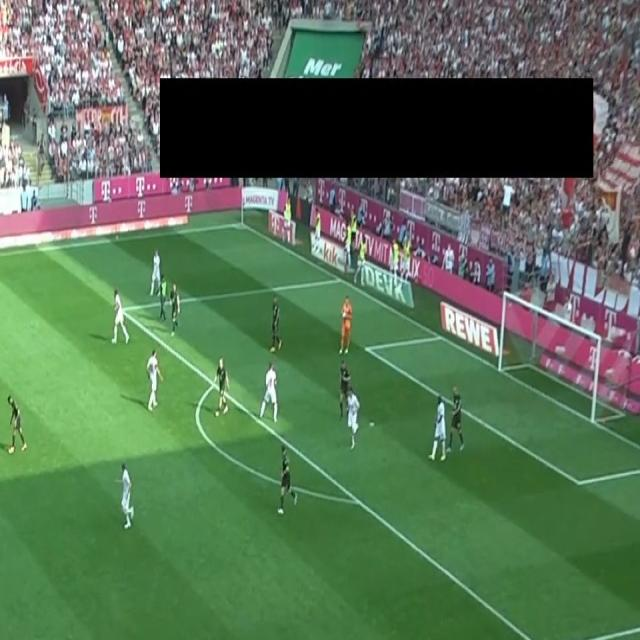ball: (342, 310, 347, 318)
